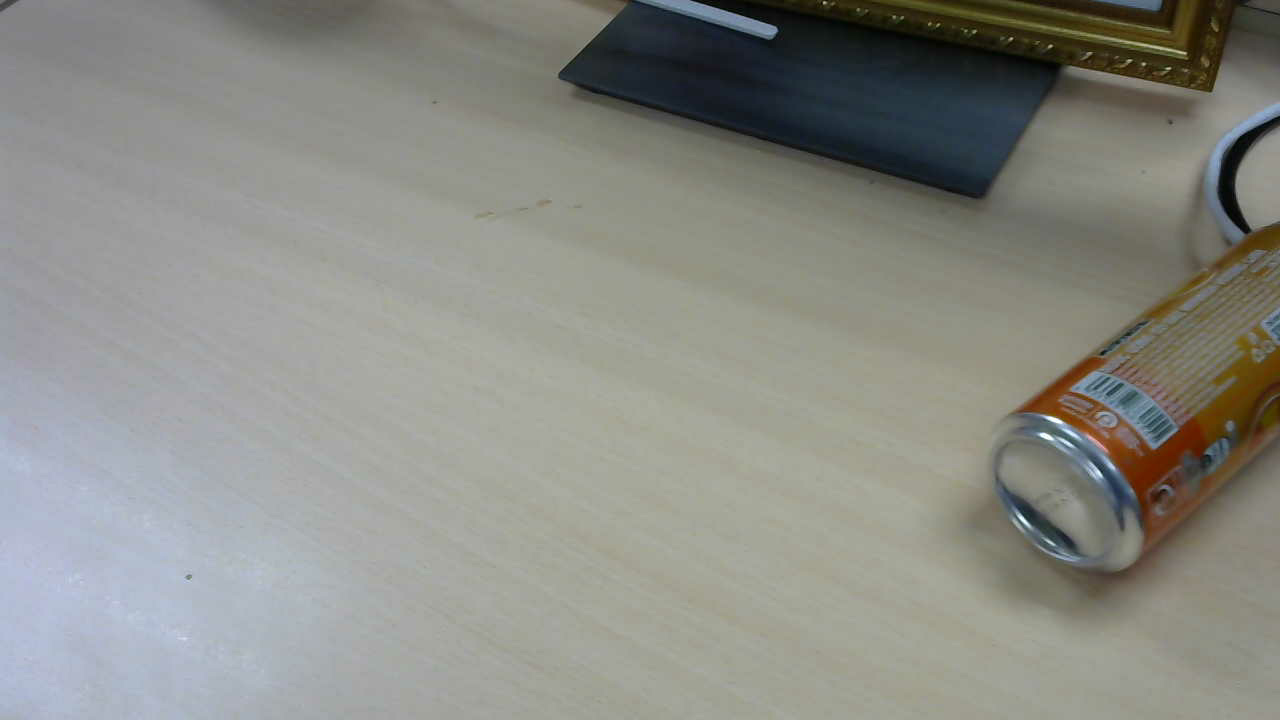Mirinda: (991, 224, 1280, 577)
